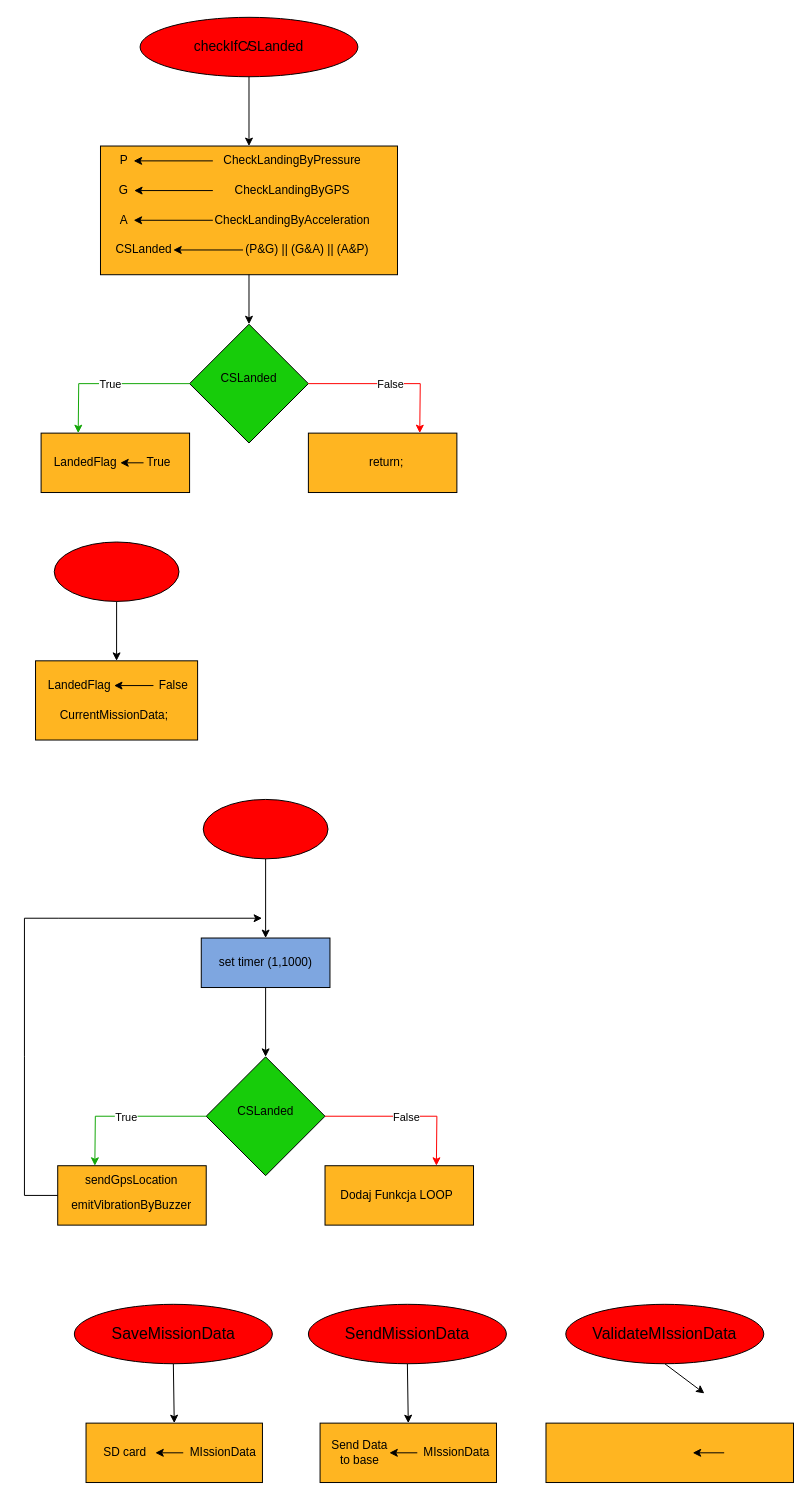
The diagram is 811 pixels wide and 1500 high, and some of its shapes have lost their labels. The shapes that lost their labels are listed below. From the top down, each one's centre as x and y in pixels, then its label:
[116,571]: setup
[265,828]: Loop
[669,1452]: missionData[Sensors]
